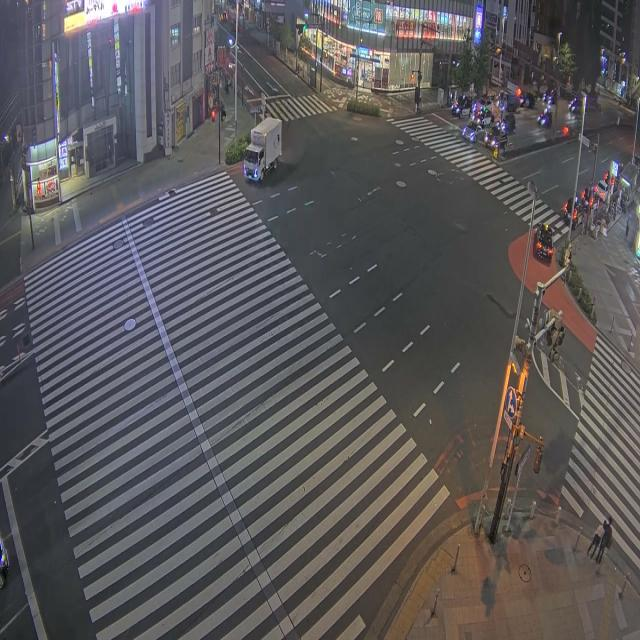car: (534, 224, 553, 262), (483, 123, 507, 149), (563, 204, 584, 228), (462, 120, 483, 142), (562, 196, 579, 223), (451, 96, 471, 118), (473, 108, 493, 127), (472, 97, 493, 112), (502, 112, 515, 133), (594, 180, 607, 201), (537, 109, 551, 127), (568, 96, 580, 113), (543, 90, 556, 105)
truck: (243, 118, 281, 180)
